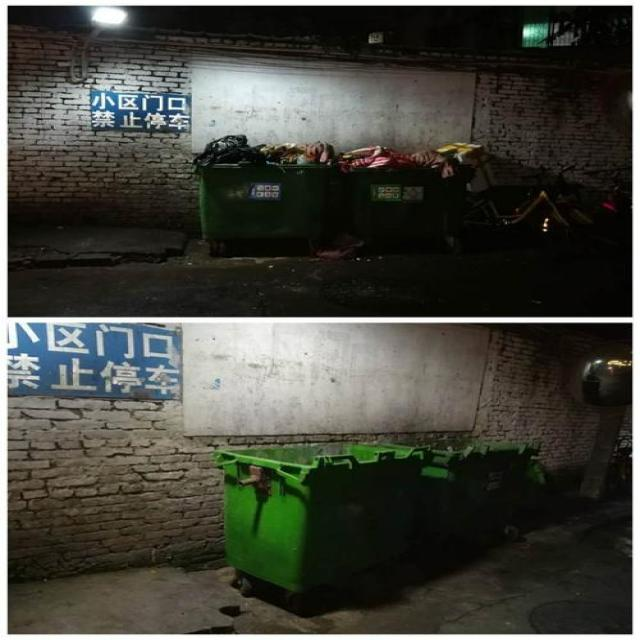garbage_bin: (211, 442, 425, 591), (413, 438, 544, 530)
overflow: (192, 133, 338, 240), (342, 146, 454, 229)
